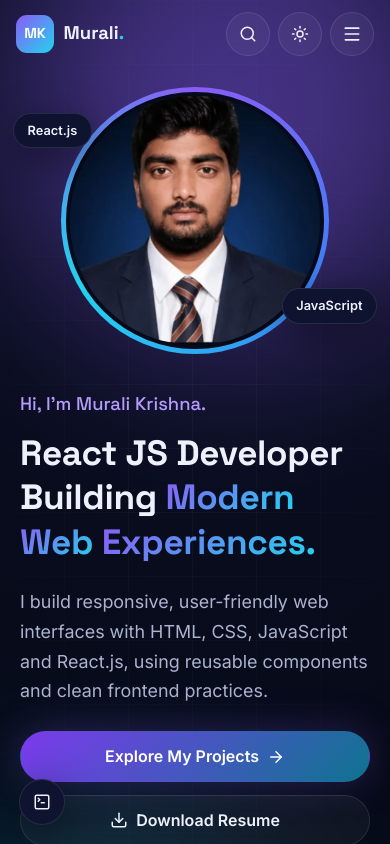
Test: navigation and theme › mobile menu toggles and closes after selecting a link
Step 1. Click the button named "open menu" → (352, 34), box top-left (330, 12), bottom-right (374, 56)
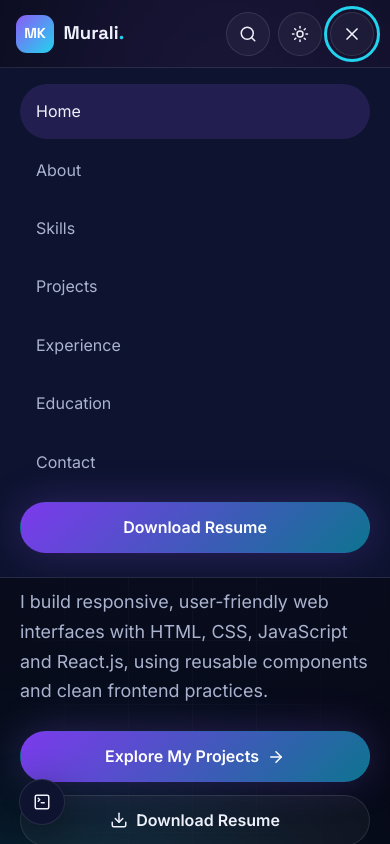
Check: the button named "close menu" is expanded, box top-left (330, 12), bottom-right (374, 56)
Step 2. Click the link "Skills" → (56, 228), box top-left (36, 218), bottom-right (75, 238)
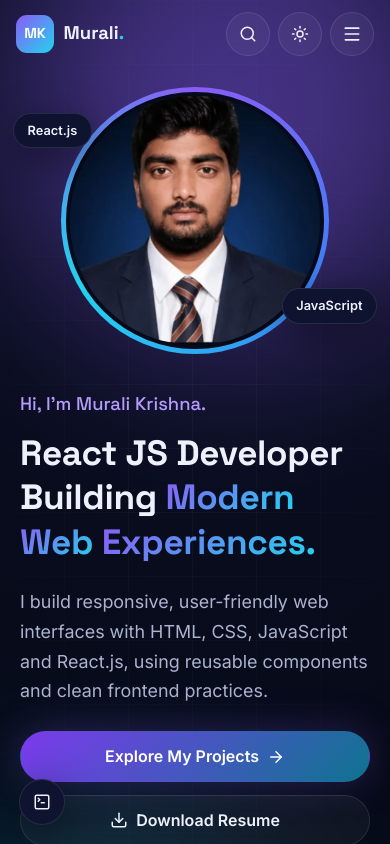
Check: the button named "open menu" is collapsed, box top-left (330, 12), bottom-right (374, 56)
